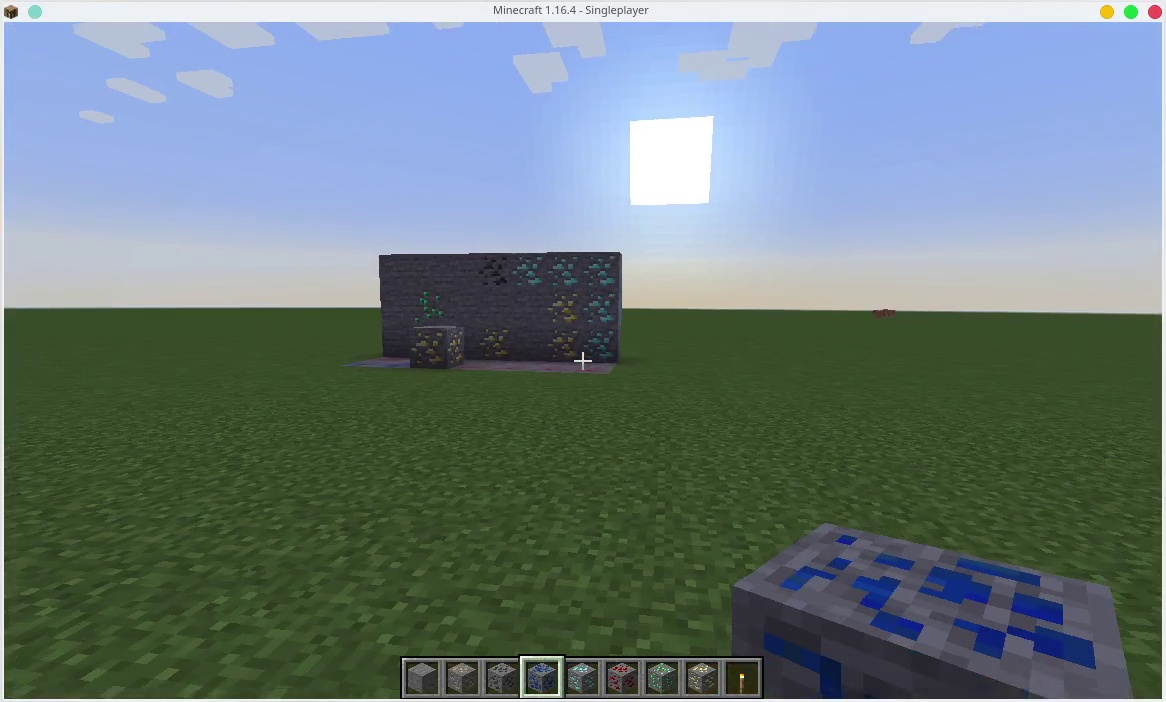gold: (412, 324, 466, 367), (543, 288, 587, 324), (545, 324, 584, 361), (476, 322, 509, 361), (683, 663, 720, 694)
